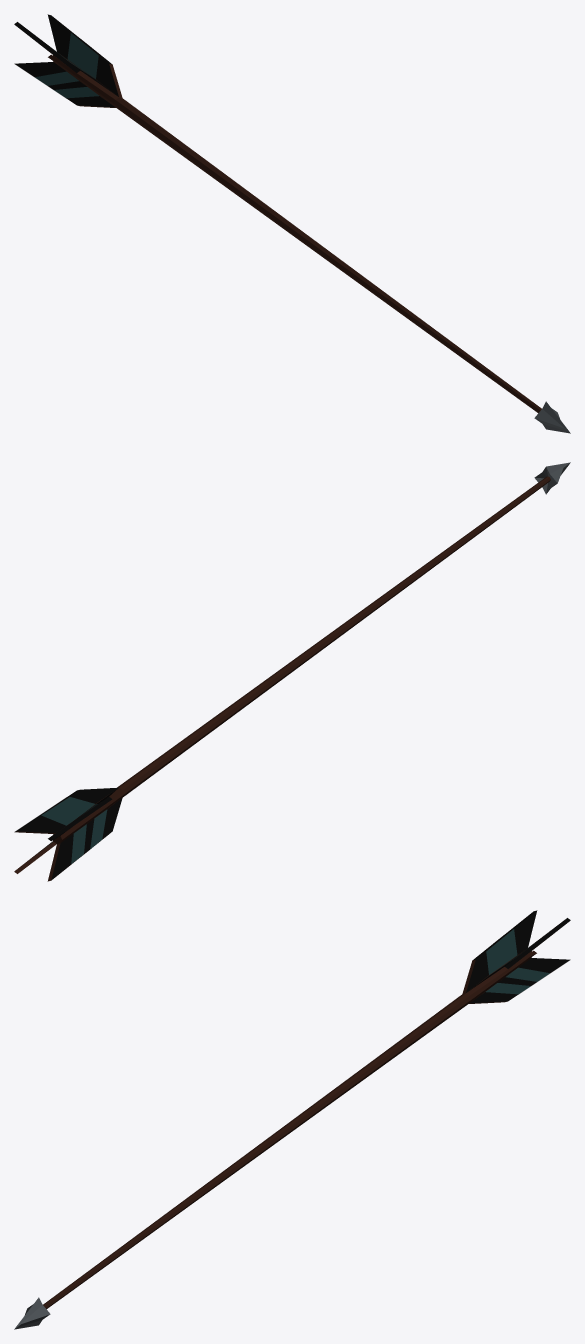
The picture shows the model from 3 angles, top to bottom: view 1: azimuth 30°, elevation 25°; view 2: azimuth 150°, elevation 25°; view 3: azimuth 330°, elevation 25°; orthographic projection.
Visible parts, largest first — view 1: Ok; view 2: Ok; view 3: Ok.
Part boxes in pixels (x1,y1,x2,y2): Ok: (14,14,570,433); Ok: (14,462,570,881); Ok: (14,910,570,1329).
Bounding box in the file's own units: 2.66 × 2.93 × 66.7.
